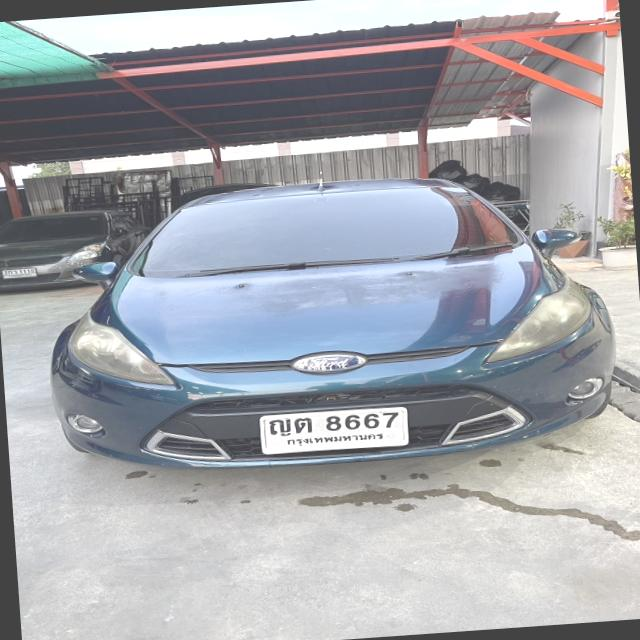license_plate: (257, 400, 414, 458)
